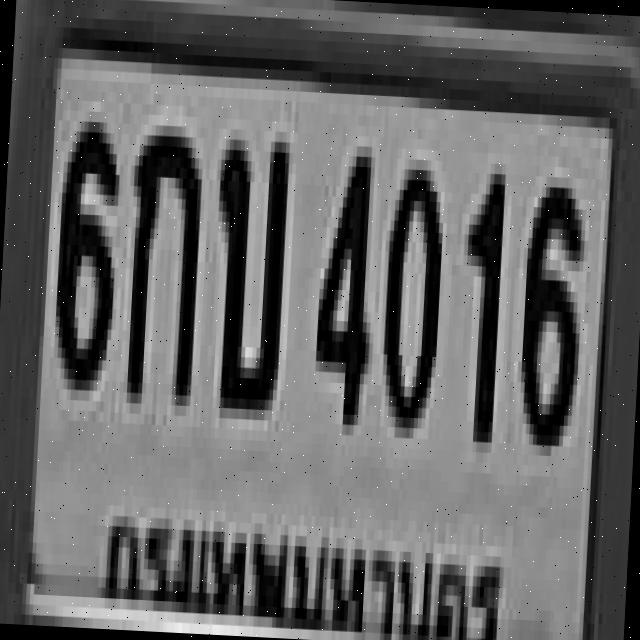0: (377, 153, 443, 424)
1: (454, 162, 502, 432)
10GorGai: (119, 114, 201, 396)
35BorBaiMai: (205, 128, 287, 410)
4: (309, 129, 377, 420)
6: (49, 110, 119, 381), (515, 176, 584, 437)
Bangkok: (96, 474, 513, 640)
